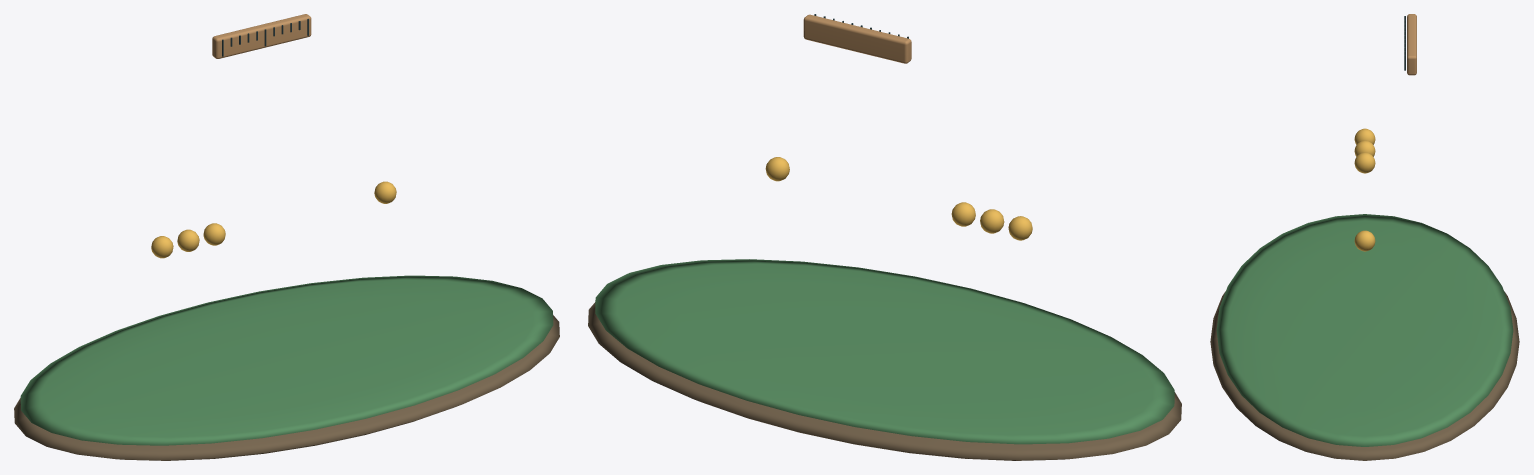
The model's file is complete-third-somewhat-small.glb.
3 renders of one model, left to right at view 1: azimuth 30°, elevation 25°; view 2: azimuth 150°, elevation 25°; view 3: azimuth 270°, elevation 25°, orthographic. The views are drawn at different scales.
Visible parts, largest first — view 1: complete-third-somewhat-small_surface_01, complete-third-somewhat-small_surface_00, complete-third-somewhat-small_surface_03, complete-third-somewhat-small_surface_02; view 2: complete-third-somewhat-small_surface_01, complete-third-somewhat-small_surface_00, complete-third-somewhat-small_surface_03, complete-third-somewhat-small_surface_02; view 3: complete-third-somewhat-small_surface_01, complete-third-somewhat-small_surface_00, complete-third-somewhat-small_surface_02, complete-third-somewhat-small_surface_03.
Part boxes in pixels (x1=…): complete-third-somewhat-small_surface_01: x1=20, y1=275, x2=553, y2=445; complete-third-somewhat-small_surface_00: x1=14, y1=315, x2=559, y2=460; complete-third-somewhat-small_surface_03: x1=212, y1=14, x2=311, y2=58; complete-third-somewhat-small_surface_02: x1=151, y1=181, x2=396, y2=258; complete-third-somewhat-small_surface_01: x1=595, y1=259, x2=1174, y2=444; complete-third-somewhat-small_surface_00: x1=588, y1=302, x2=1181, y2=460; complete-third-somewhat-small_surface_03: x1=803, y1=14, x2=911, y2=63; complete-third-somewhat-small_surface_02: x1=765, y1=157, x2=1032, y2=240; complete-third-somewhat-small_surface_01: x1=1216, y1=214, x2=1513, y2=446; complete-third-somewhat-small_surface_00: x1=1210, y1=291, x2=1519, y2=460; complete-third-somewhat-small_surface_02: x1=1354, y1=128, x2=1375, y2=251; complete-third-somewhat-small_surface_03: x1=1407, y1=14, x2=1416, y2=75.
Size of the model in its own units: 4.56 by 2.87 by 2.5.
